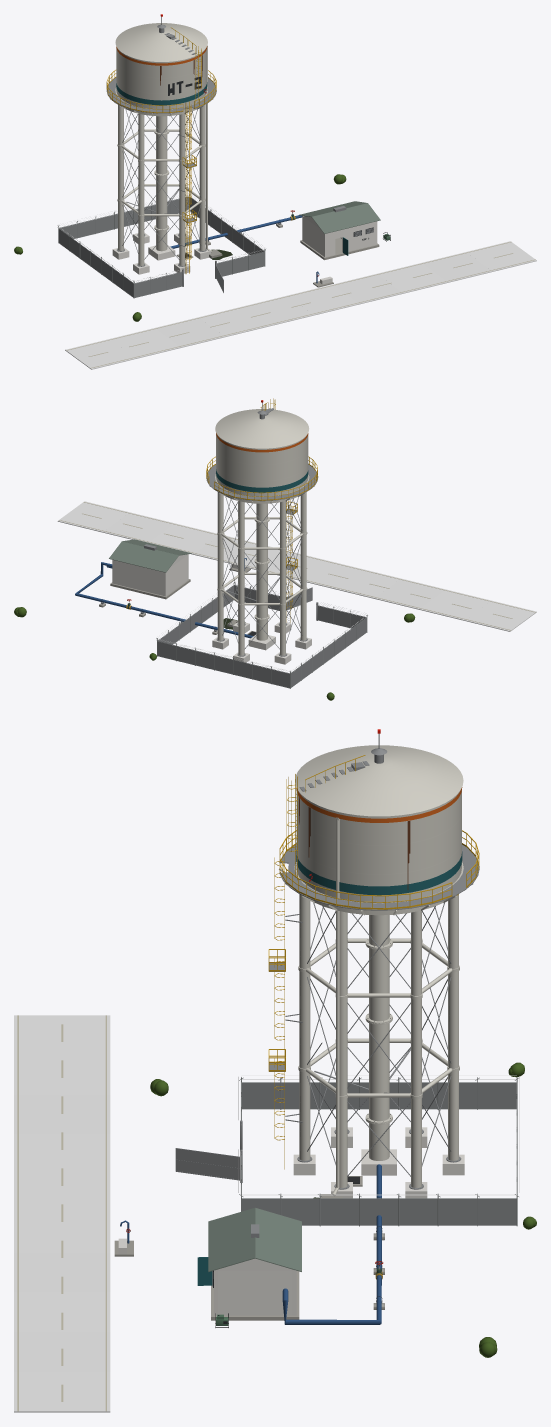
Rendered from water-tower.glb.
The picture shows the model from 3 angles, top to bottom: view 1: azimuth 30°, elevation 25°; view 2: azimuth 150°, elevation 25°; view 3: azimuth 270°, elevation 25°; orthographic projection. The views are drawn at different scales.
Parts seen in each view (by area): view 1: C-1_0_lod0, C-1_-1_lod0, C0_-1_lod0, C0_0_lod0; view 2: C-1_0_lod0, C-1_-1_lod0, C0_-1_lod0, C0_0_lod0; view 3: C-1_0_lod0, C0_-1_lod0, C-1_-1_lod0, C0_0_lod0.
Part boxes in pixels (left/top/right/bottom): C-1_0_lod0: left=14, top=14, right=222, bottom=297; C-1_-1_lod0: left=65, top=39, right=314, bottom=369; C0_-1_lod0: left=243, top=201, right=536, bottom=315; C0_0_lod0: left=106, top=77, right=346, bottom=259; C-1_0_lod0: left=157, top=400, right=367, bottom=700; C-1_-1_lod0: left=234, top=398, right=536, bottom=648; C0_-1_lod0: left=57, top=501, right=310, bottom=615; C0_0_lod0: left=14, top=464, right=318, bottom=660; C-1_0_lod0: left=241, top=729, right=524, bottom=1198; C0_-1_lod0: left=14, top=1193, right=321, bottom=1412; C-1_-1_lod0: left=14, top=770, right=335, bottom=1213; C0_0_lod0: left=241, top=844, right=536, bottom=1357.
Size of what is drawn, in the model's own units: 68.02 by 35.28 by 37.95.
